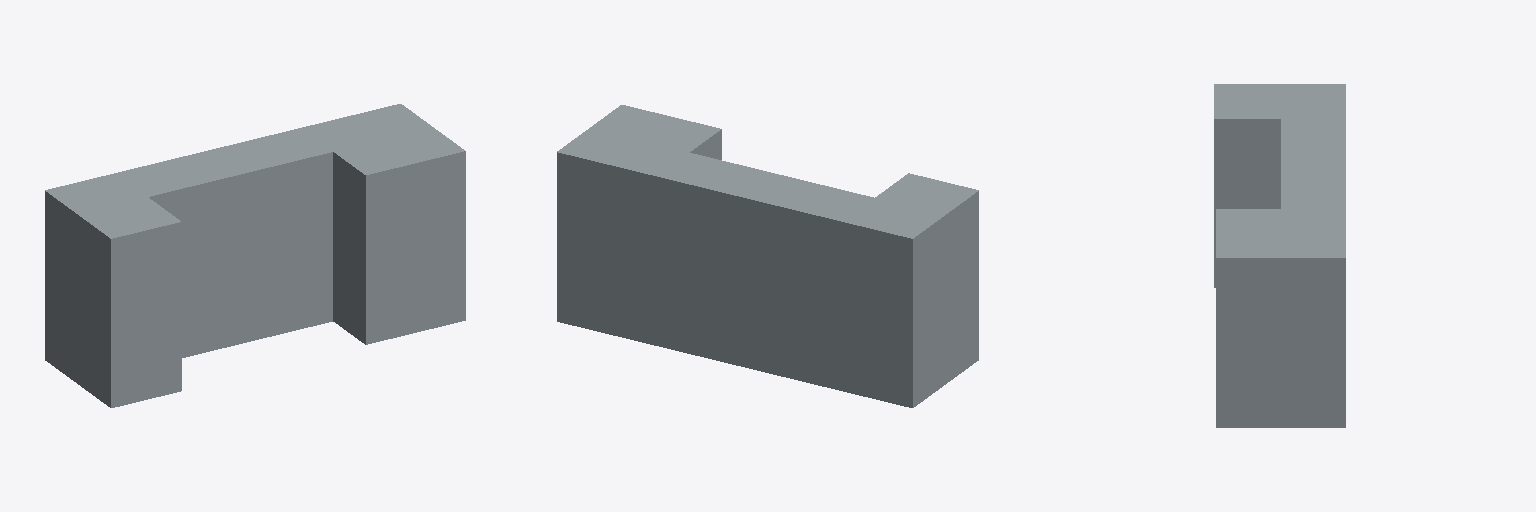
File: bridge1.obj
3 views of the same model, side by side, from view 1: azimuth 30°, elevation 25°; view 2: azimuth 150°, elevation 25°; view 3: azimuth 270°, elevation 25° (orthographic).
Visible parts, largest first — view 1: Part1; view 2: Part1; view 3: Part1.
Boxes of the visible parts, <box> form: Part1: <box>45,104,465,407</box>; Part1: <box>557,105,978,407</box>; Part1: <box>1214,84,1345,427</box>.
Bounding box in the file's own units: 1100 × 500 × 355.